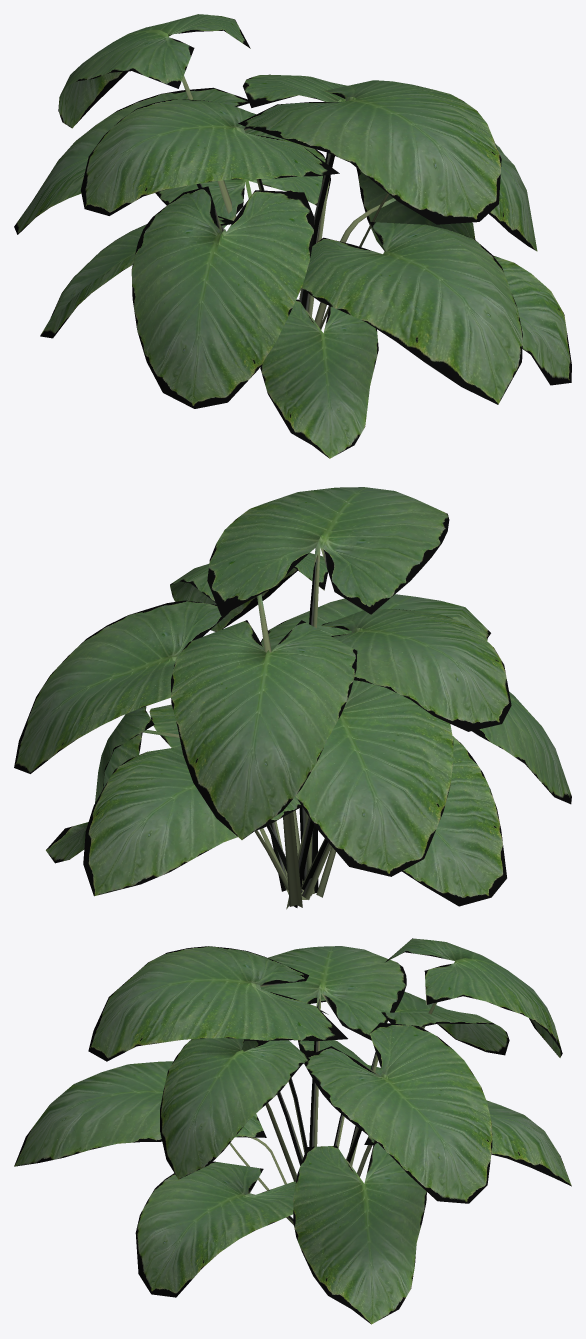
The model's file is taro.glb.
The picture shows the model from 3 angles, top to bottom: view 1: azimuth 30°, elevation 25°; view 2: azimuth 150°, elevation 25°; view 3: azimuth 270°, elevation 25°; orthographic projection. The views are drawn at different scales.
Visible parts, largest first — view 1: Object_2; view 2: Object_2; view 3: Object_2.
Boxes of the visible parts, x1=… form: Object_2: x1=14, y1=14, x2=571, y2=458; Object_2: x1=14, y1=487, x2=571, y2=909; Object_2: x1=14, y1=938, x2=571, y2=1324.
Size of the model in its own units: 3.38 by 2.45 by 4.34.
Materials: 1 (1 with a texture image).
